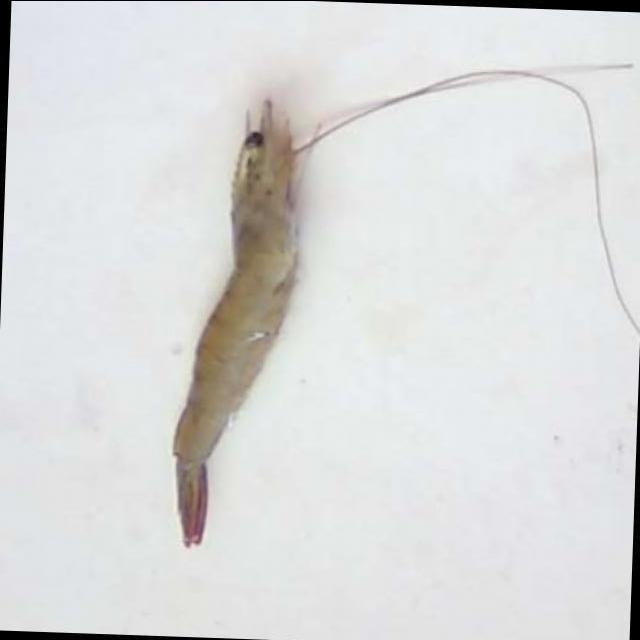shrimp: (174, 98, 296, 546)
